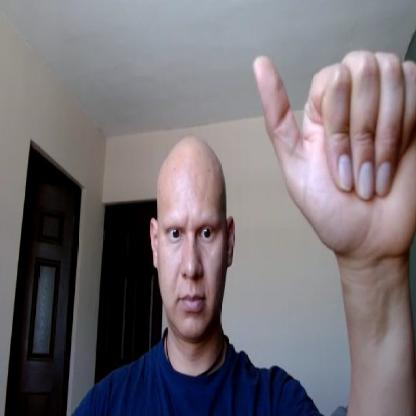A: (253, 50, 415, 258)
